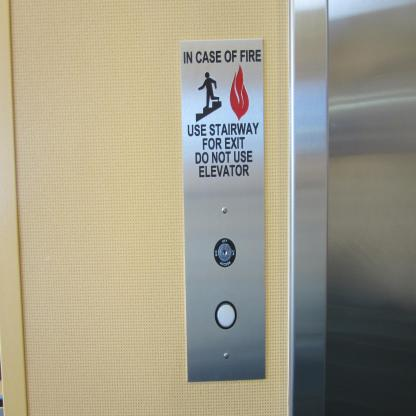empty: (213, 298, 238, 331)
keyhole: (212, 236, 238, 268)
